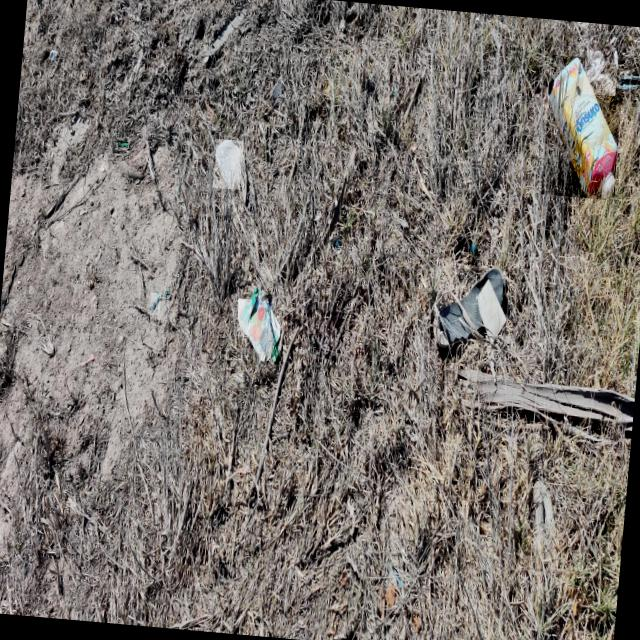Bottle cap: (601, 175, 614, 199)
Clear plastic bottle: (215, 140, 240, 189)
Other plastic wrapper: (548, 57, 616, 199)
Unlabeled litter: (433, 267, 504, 349), (476, 278, 505, 343), (585, 49, 614, 96), (238, 299, 248, 337), (149, 293, 160, 314), (393, 569, 401, 588), (469, 245, 475, 265), (118, 141, 127, 147), (165, 291, 169, 295)
